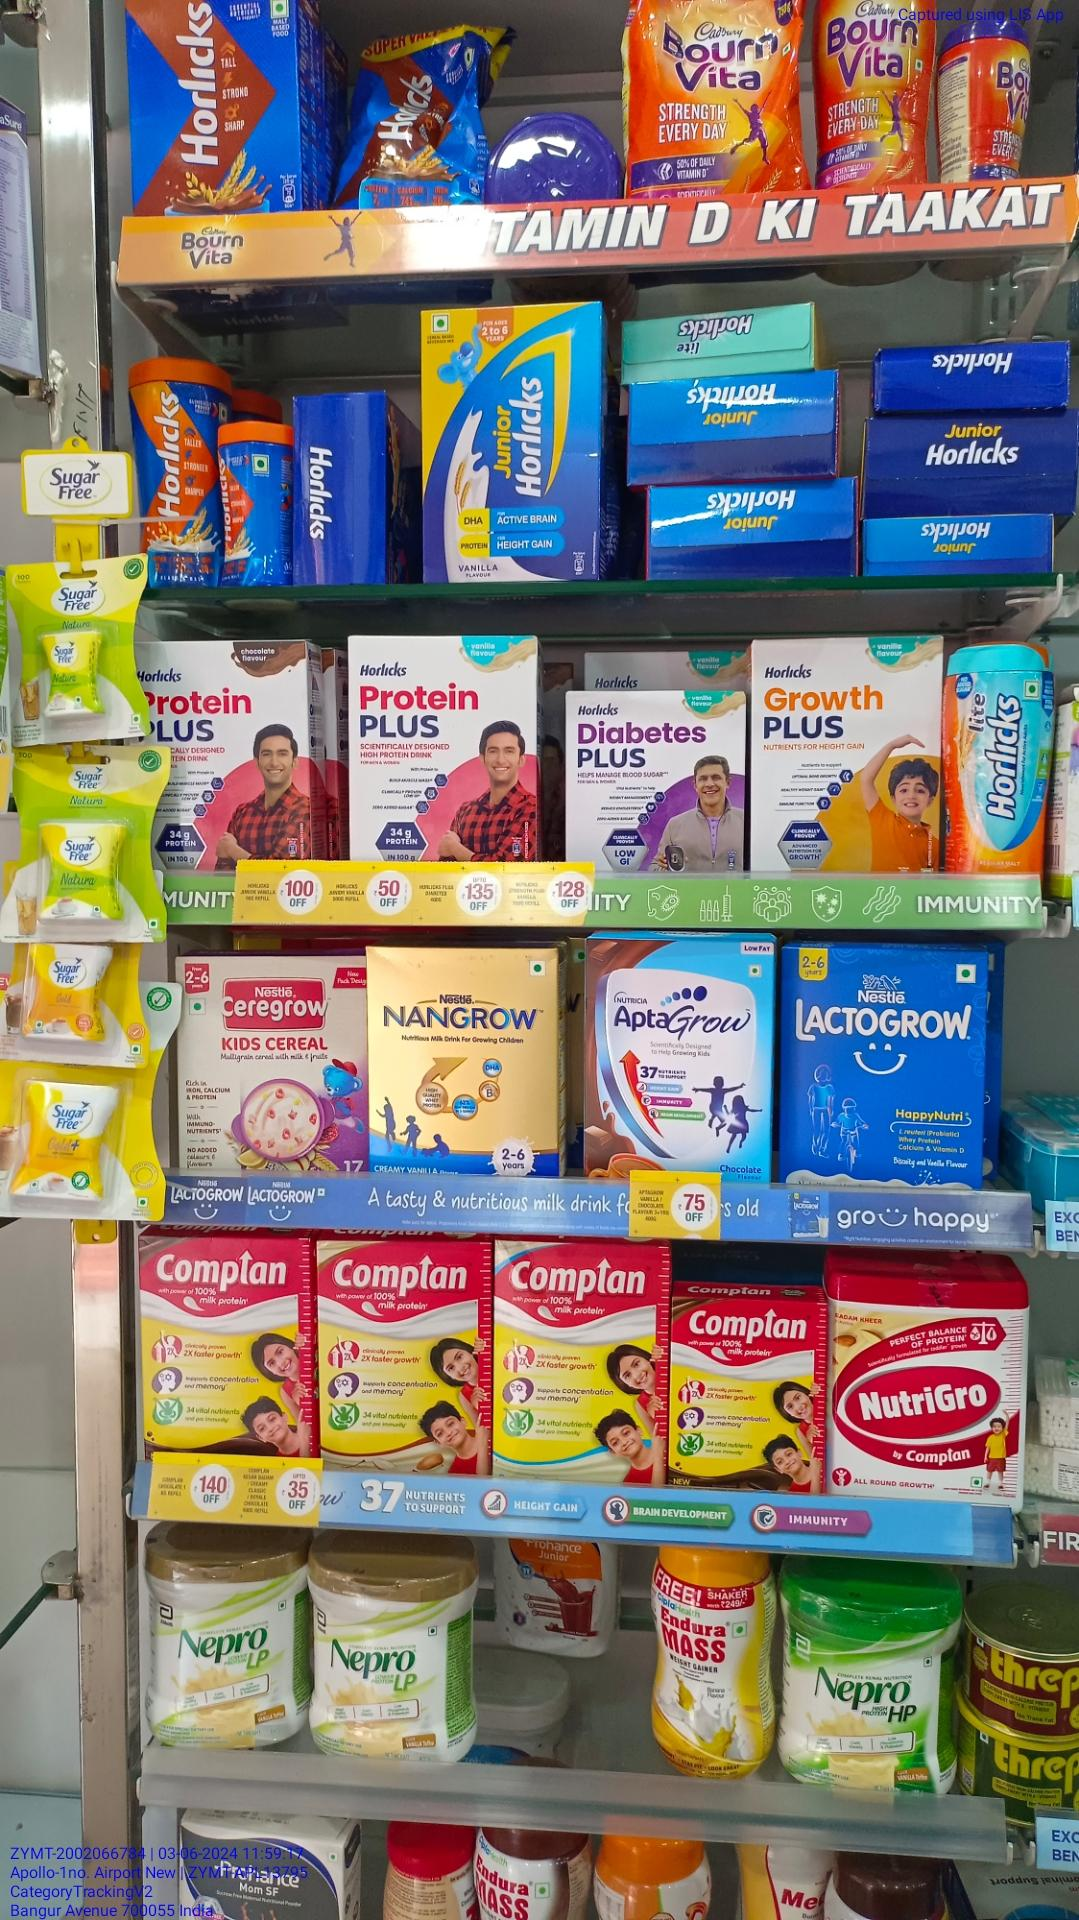COMPLAN_CHOCOLATE_200_GMS_PACK: (671, 1298, 820, 1502)
COMPLAN_CREAMY_CLASSIC_500_G_PACK: (496, 1236, 665, 1487)
HORLICKS_LITE_REGULAR_MALT_500_GM_JAR: (943, 641, 1057, 881)
